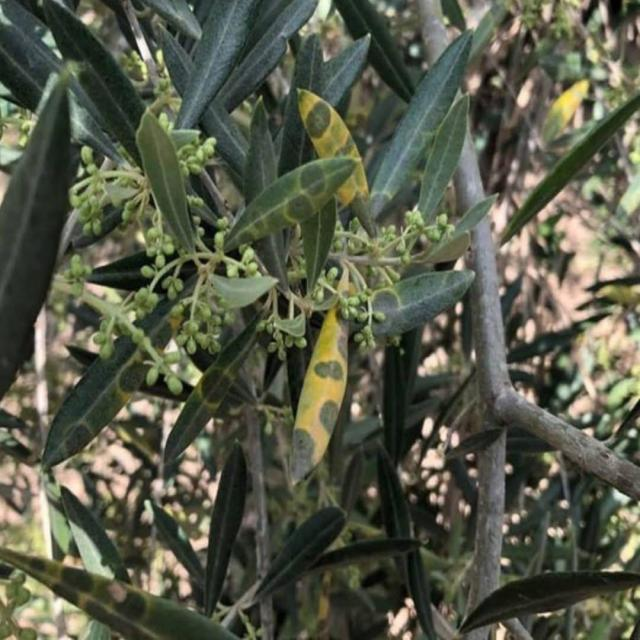OlivePeacockSpot: (42, 281, 195, 468), (0, 548, 236, 640), (164, 308, 261, 467), (298, 89, 377, 238), (224, 158, 354, 248), (292, 304, 348, 480), (372, 270, 474, 338)
